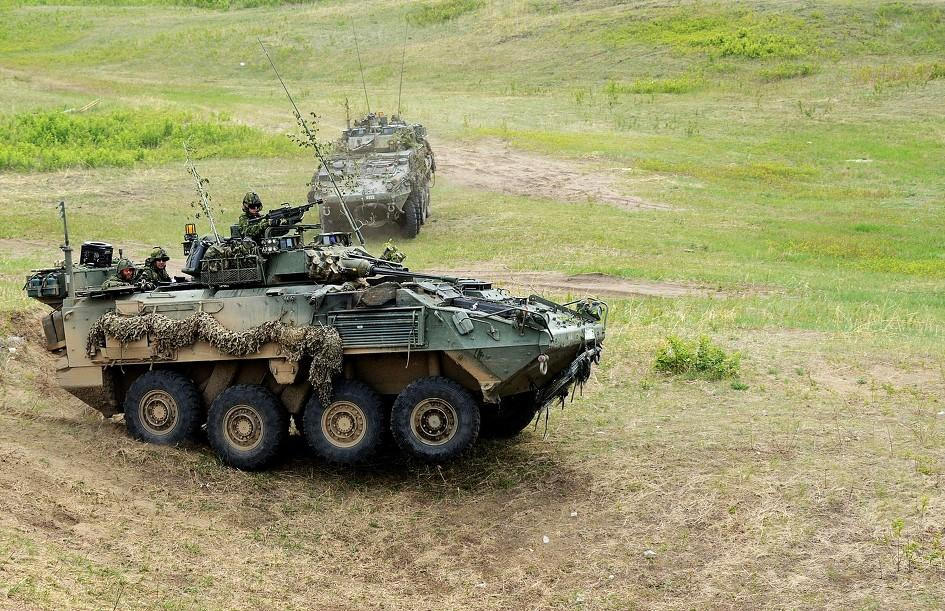armored_car: (30, 201, 609, 473), (312, 110, 450, 238)
